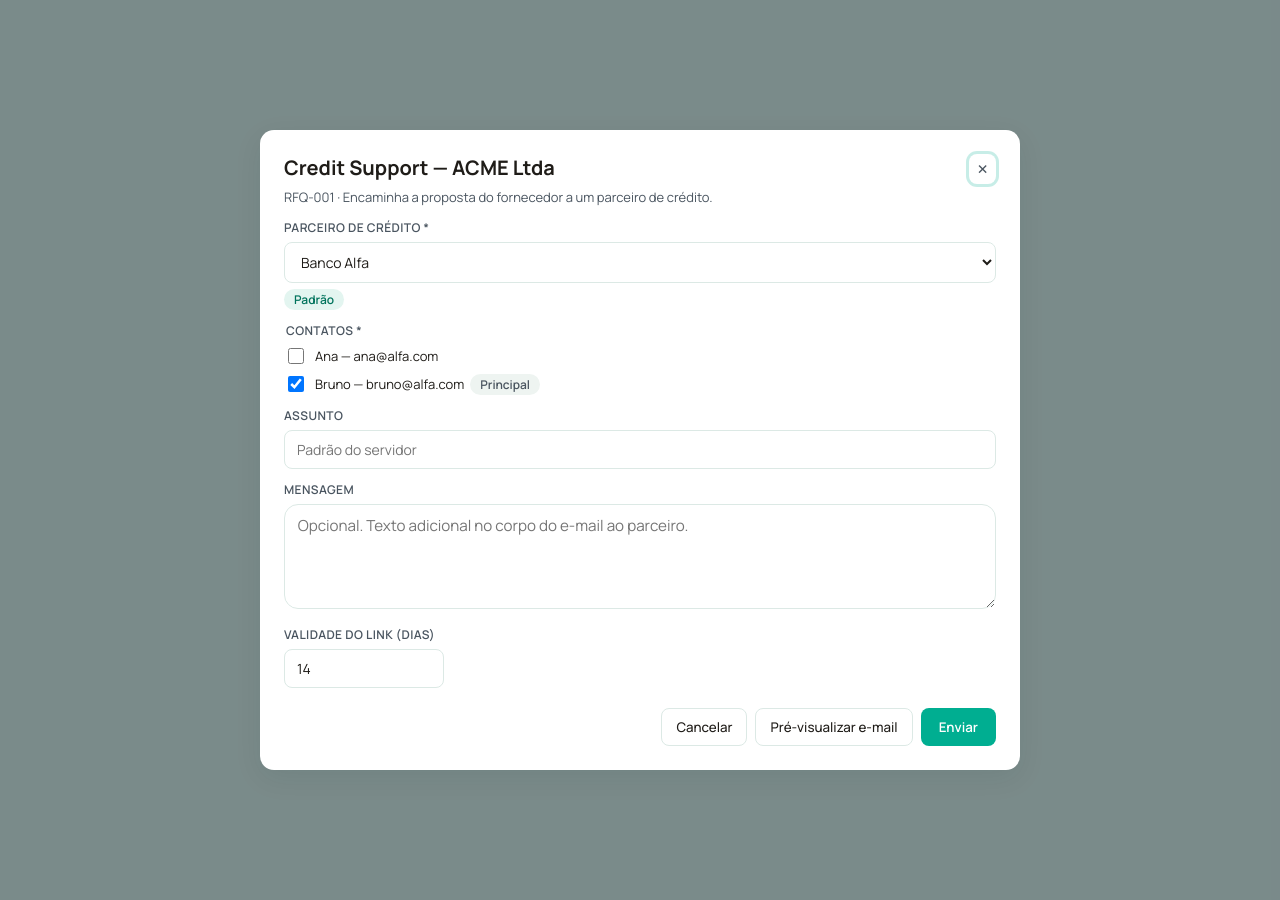
CreditSupportModal › 7. "Copiar link" usa navigator.clipboard e vira "Link copiado!"
Check: the text "Bruno — bruno@alfa.com" is shown, box [315,374,540,395]
Click the button "Enviar" at (958, 727), box [921,708,996,746]
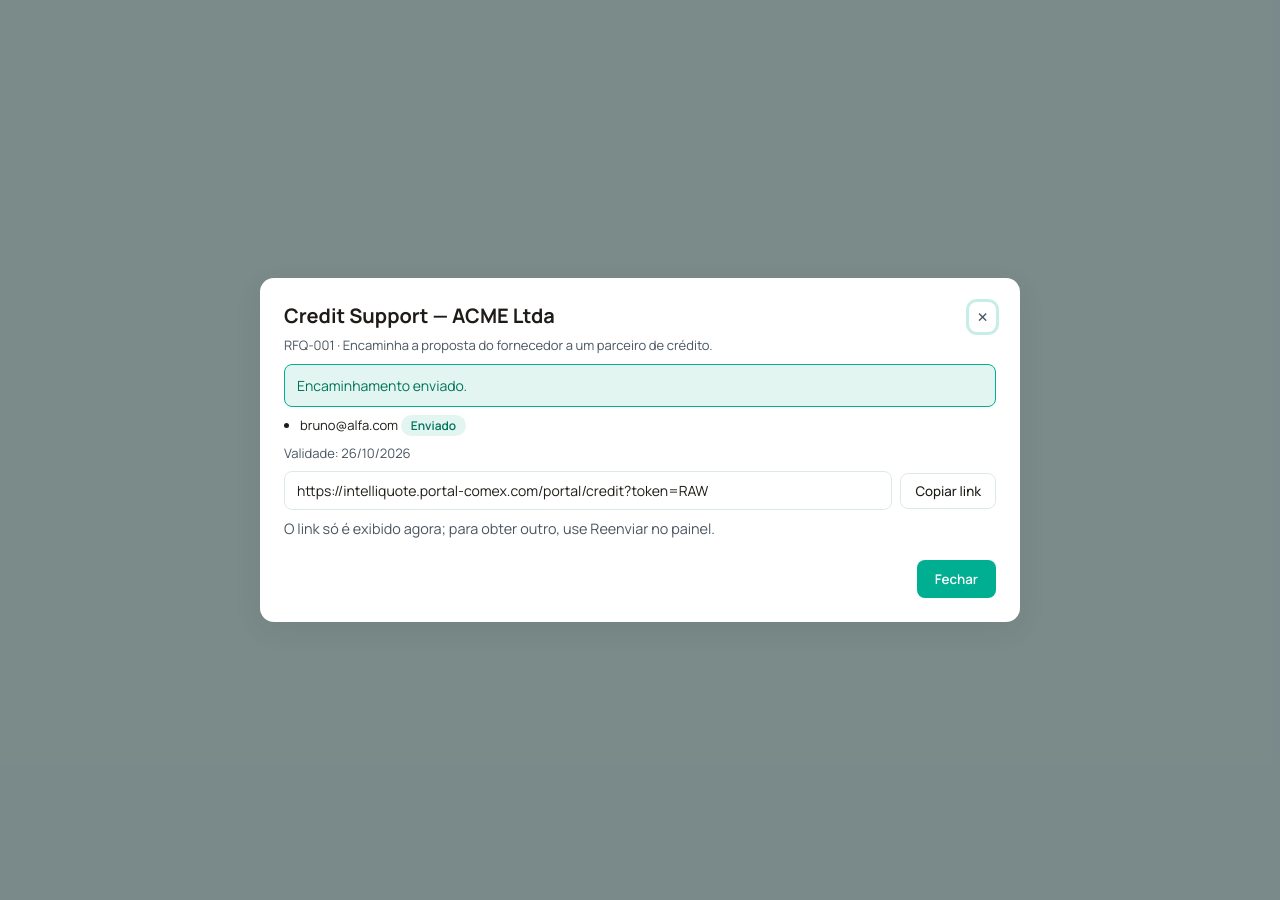
Check: the text "Encaminhamento enviado." is shown, box [284,364,996,407]
Click the button "Copiar link" at (948, 491), box [900,473,996,509]
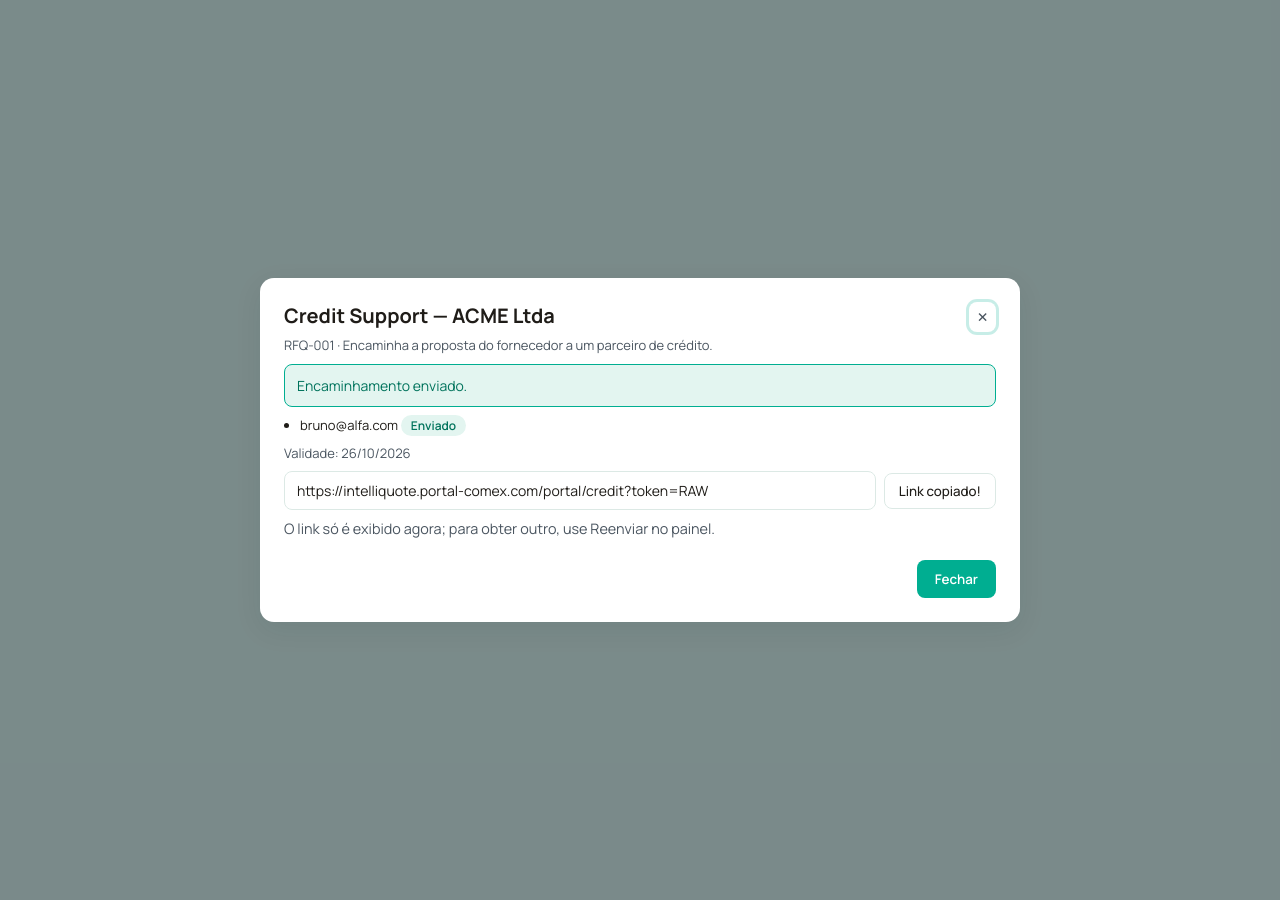
Check: the button "Link copiado!" is shown, box [884,473,996,509]
